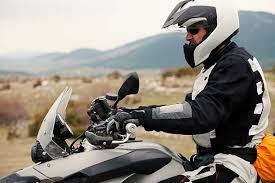motorcycle: (1, 73, 259, 183)
